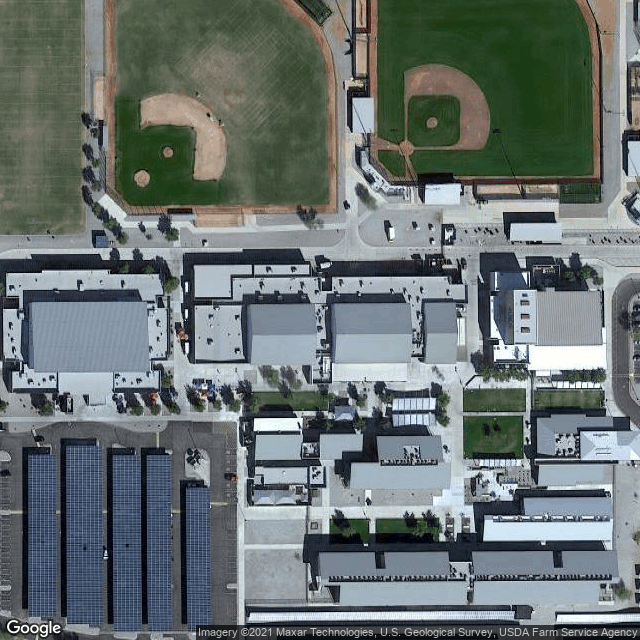carport-fixed: (65, 444, 104, 624), (108, 450, 141, 627), (29, 456, 60, 618), (146, 453, 170, 630), (184, 482, 210, 621)
